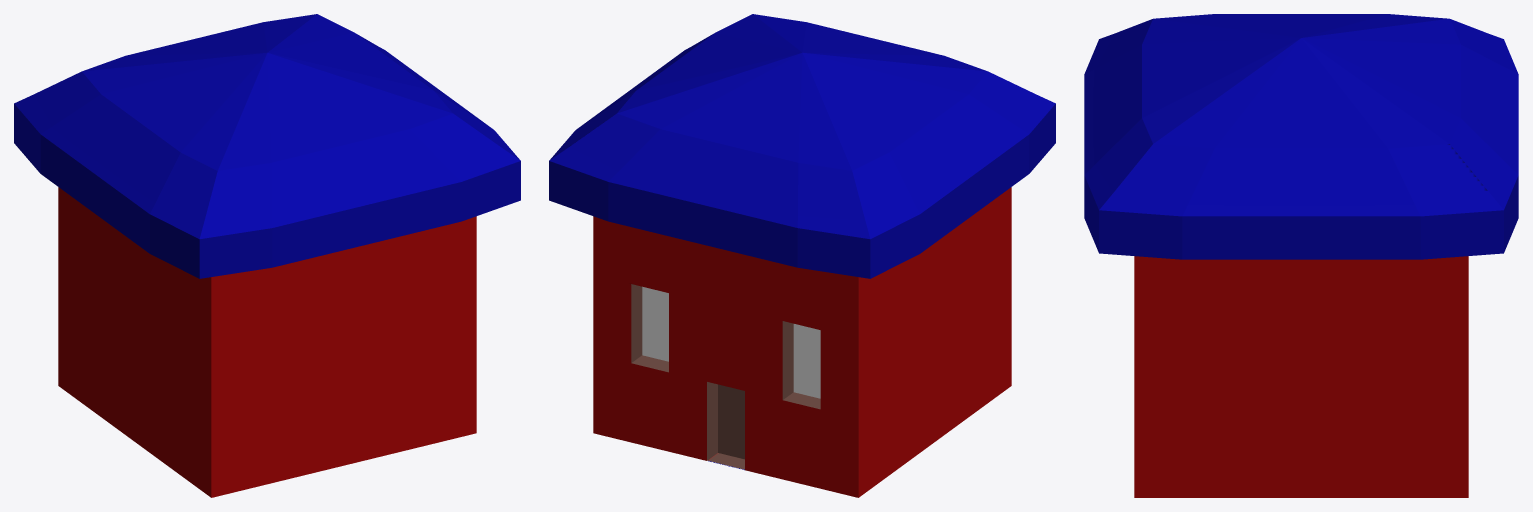
The model's file is house.glb.
3 renders of one model, left to right at view 1: azimuth 30°, elevation 25°; view 2: azimuth 150°, elevation 25°; view 3: azimuth 270°, elevation 25°, orthographic. The views are drawn at different scales.
Parts seen in each view (by area): view 1: Cube; view 2: Cube; view 3: Cube.
Part boxes in pixels (x1,y1,x2,y2): Cube: (14, 14, 520, 497); Cube: (549, 14, 1055, 497); Cube: (1084, 14, 1518, 497).
Size of the model in its own units: 18.2 by 18.02 by 18.2.
1 material, 1 textured.
